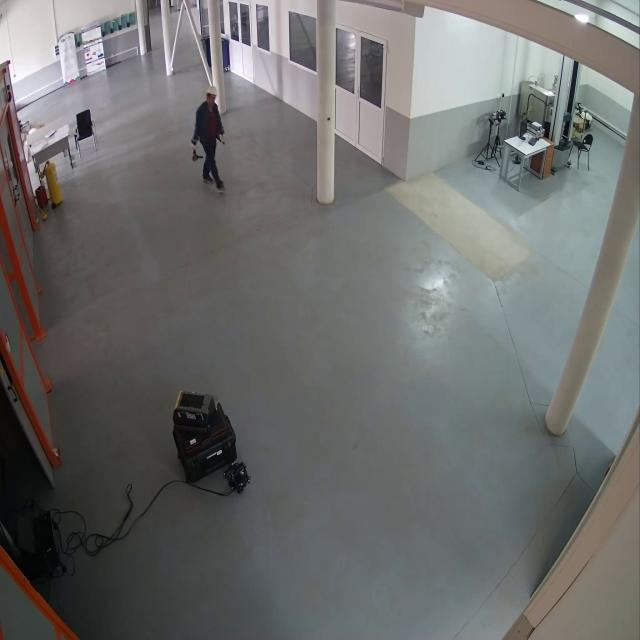Hardhat: (206, 86, 218, 97)
Person: (190, 84, 228, 193)
